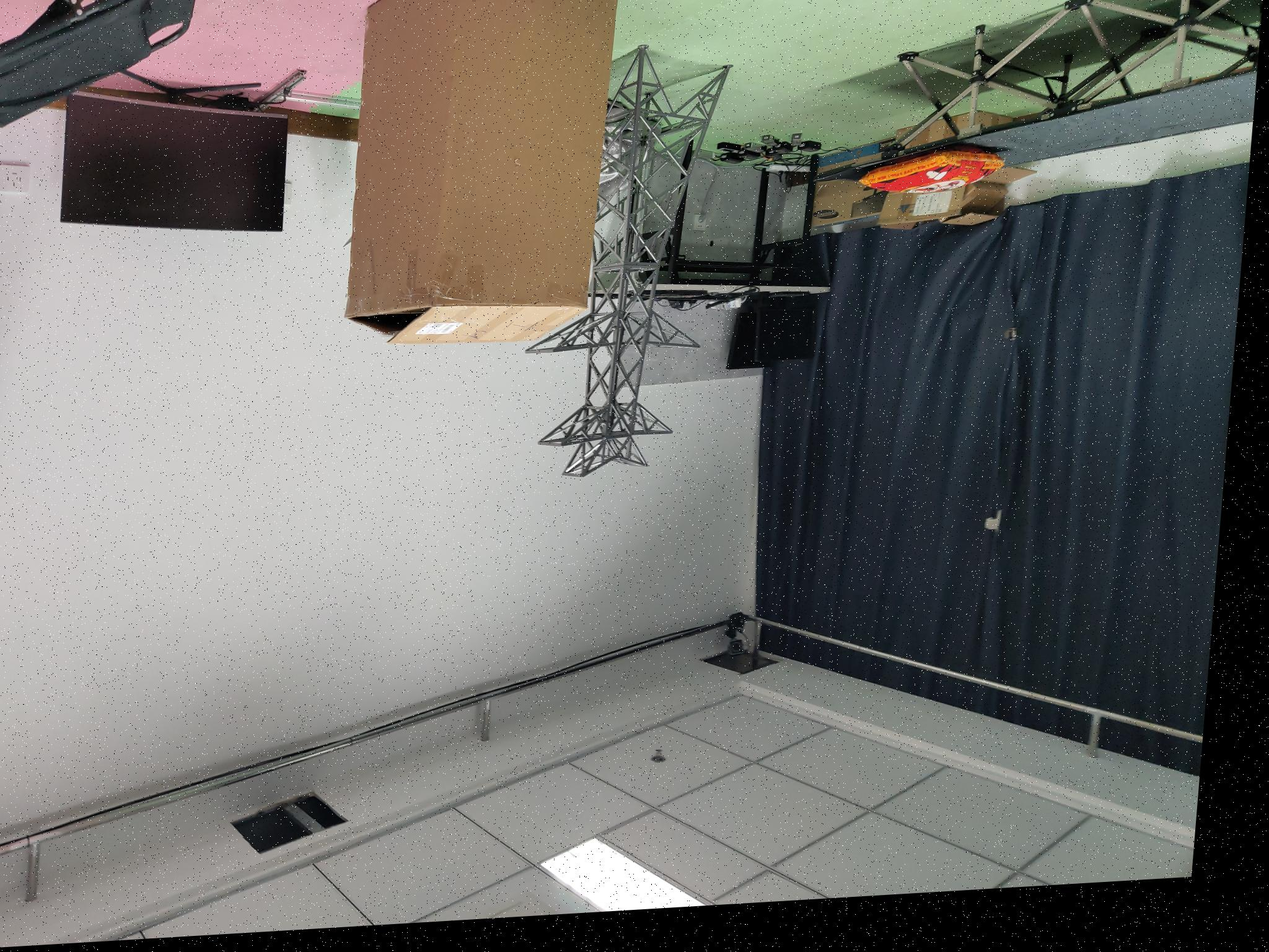tower: (570, 58, 726, 479)
